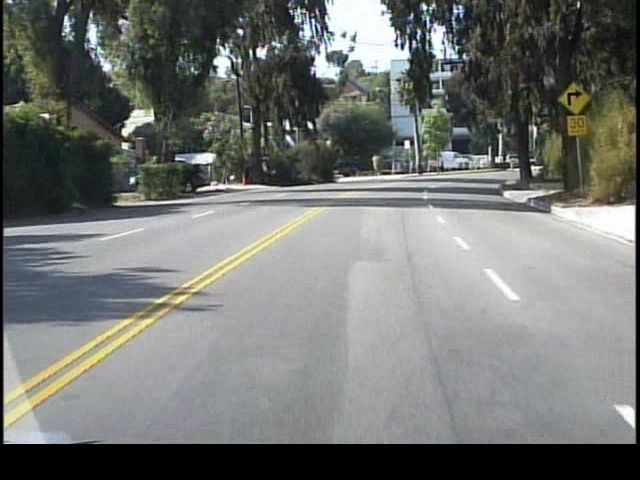strada: (10, 228, 635, 438)
